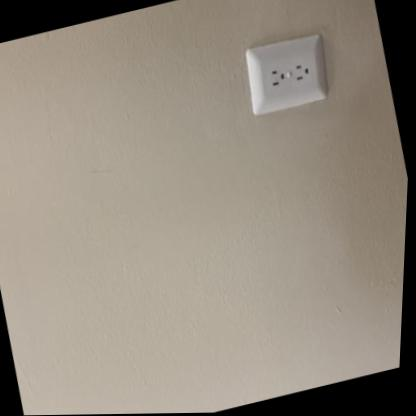OUTLET: (238, 28, 338, 118)
